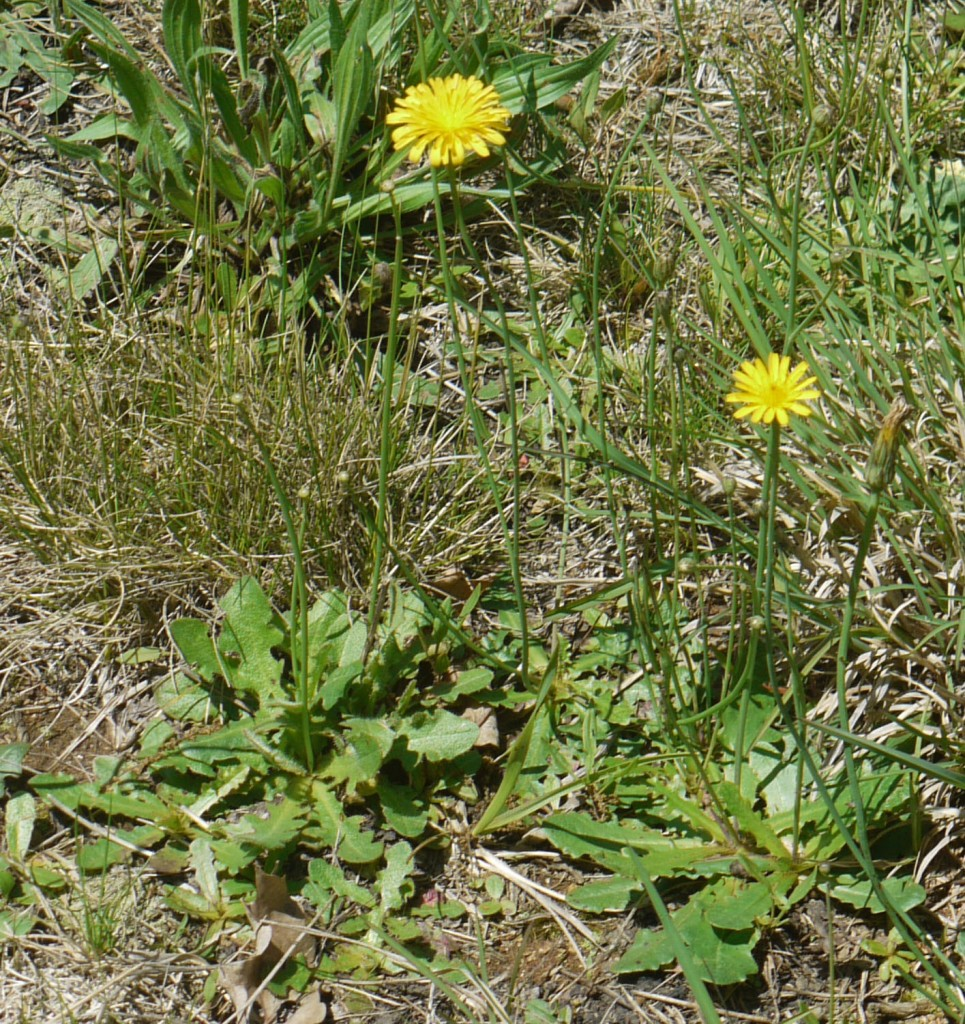dandelion: (387, 82, 512, 160), (738, 350, 830, 427)
